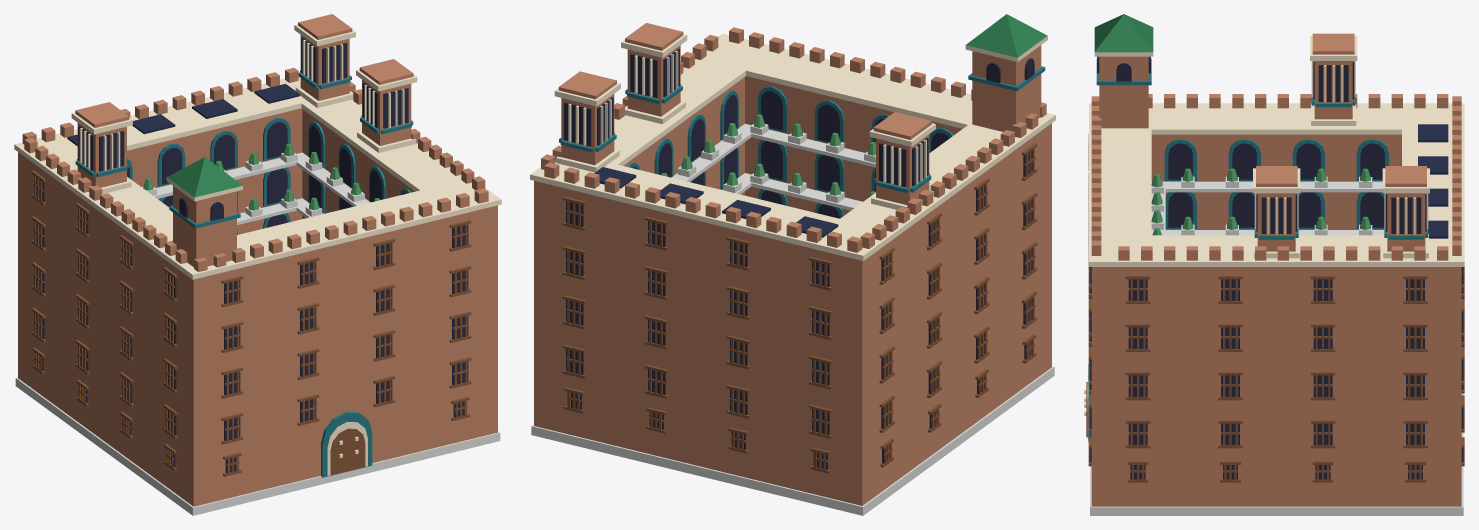
File: house-2x2-5f-riad-a-solar.glb
The picture shows the model from 3 angles, left to right: view 1: azimuth 30°, elevation 25°; view 2: azimuth 150°, elevation 25°; view 3: azimuth 270°, elevation 25°; orthographic projection. The views are drawn at different scales.
Visible parts, largest first — view 1: house-2x2-5f-riad-a-solar; view 2: house-2x2-5f-riad-a-solar; view 3: house-2x2-5f-riad-a-solar.
Boxes of the visible parts, <box> form: house-2x2-5f-riad-a-solar: <box>14,14,501,515</box>; house-2x2-5f-riad-a-solar: <box>530,14,1055,515</box>; house-2x2-5f-riad-a-solar: <box>1084,14,1464,515</box>.
Bounding box in the file's own units: 1.98 × 2.09 × 2.01.
1 material, 1 textured.
